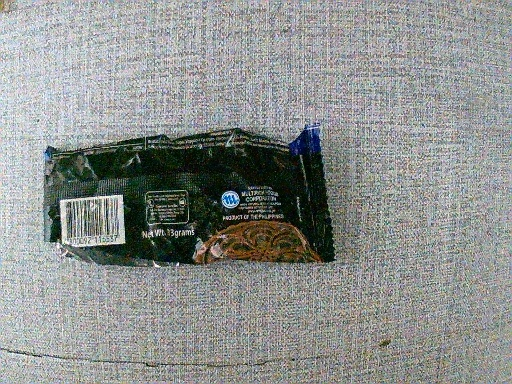plastic: (35, 138, 331, 272)
